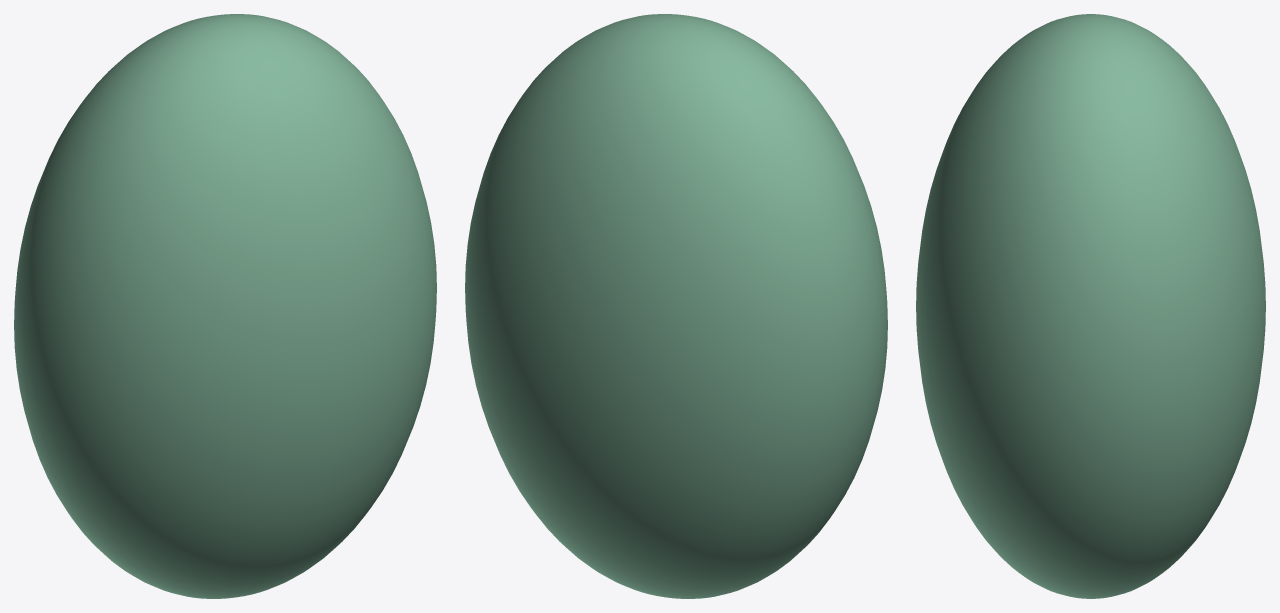
3 views of the same model, side by side, from view 1: azimuth 30°, elevation 25°; view 2: azimuth 150°, elevation 25°; view 3: azimuth 270°, elevation 25° (orthographic).
Visible parts, largest first — view 1: face; view 2: face; view 3: face.
Part boxes in pixels (x1,y1,x2,y2): face: (14, 14, 436, 598); face: (465, 14, 887, 598); face: (916, 14, 1265, 598).
Bounding box in the file's own units: 1 × 1.4 × 0.8.
